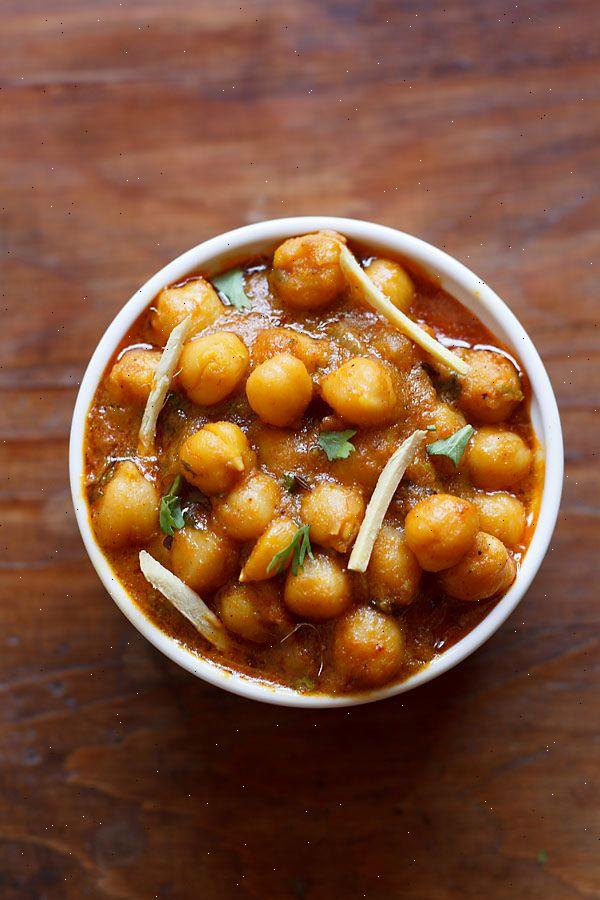puri: (106, 291, 518, 623)
